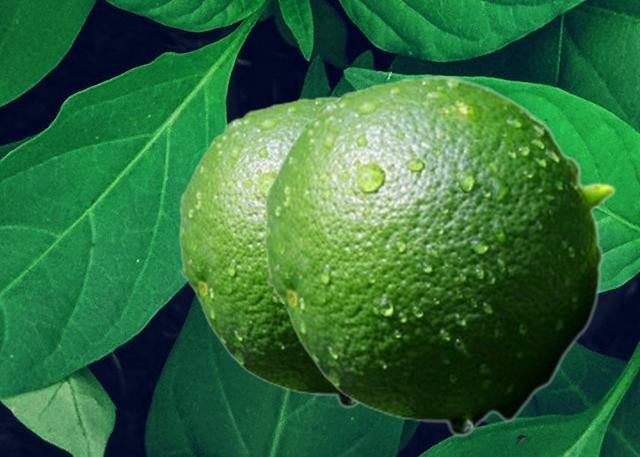dalandan: (263, 74, 615, 437), (178, 95, 358, 408)
